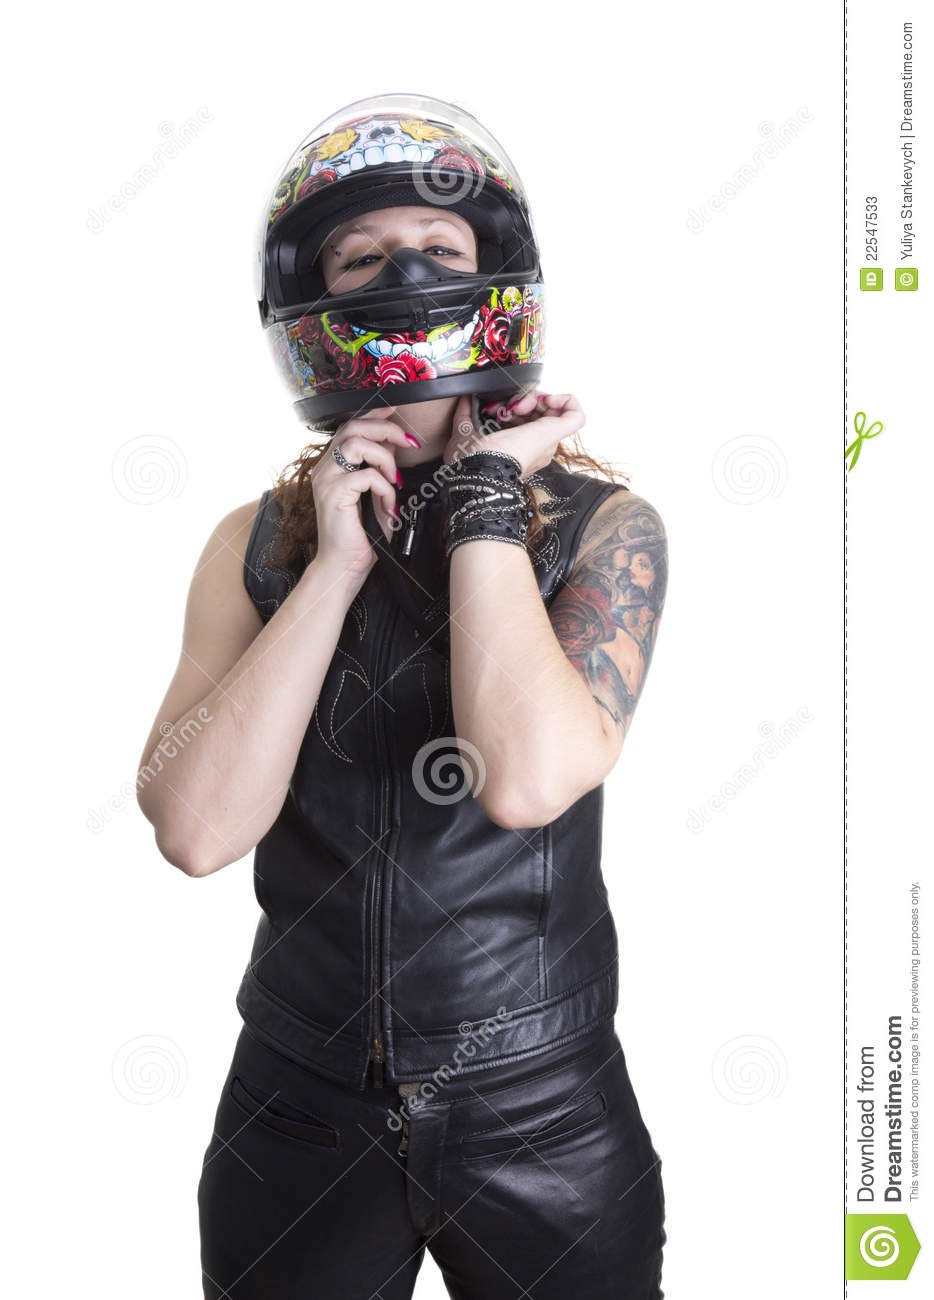helmet: (257, 121, 549, 405)
